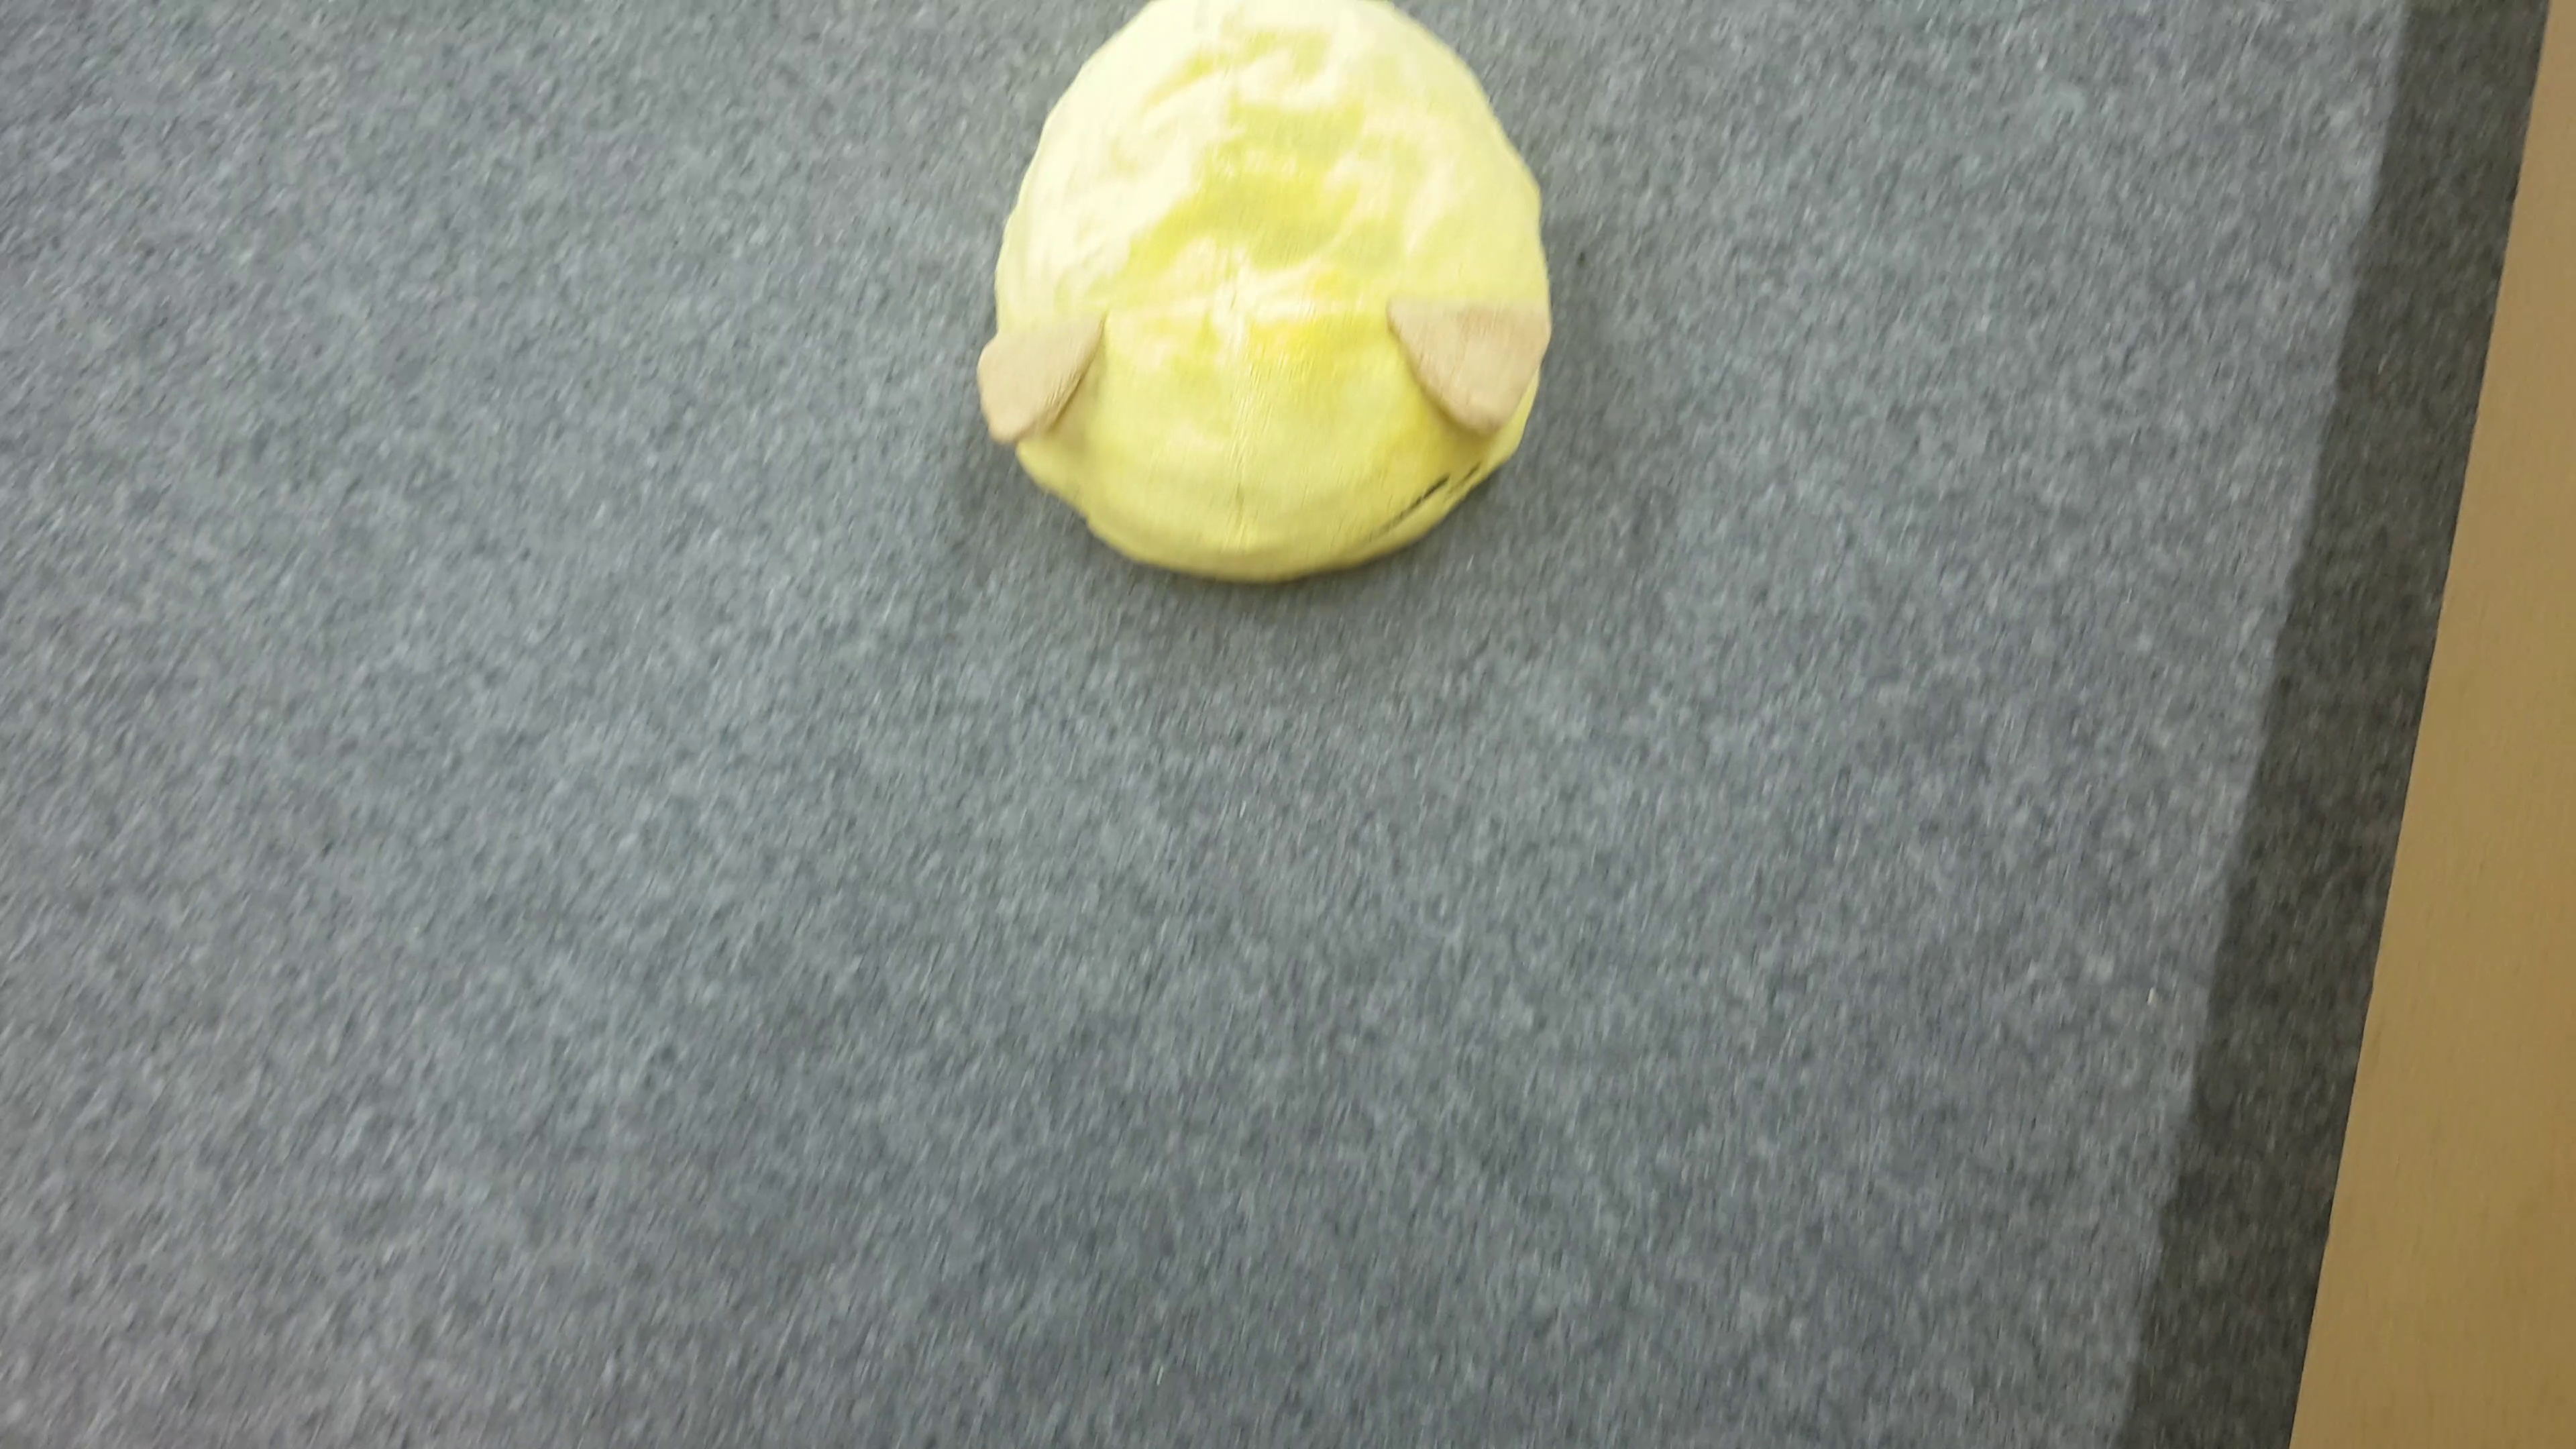grasp: (978, 2, 1550, 586)
